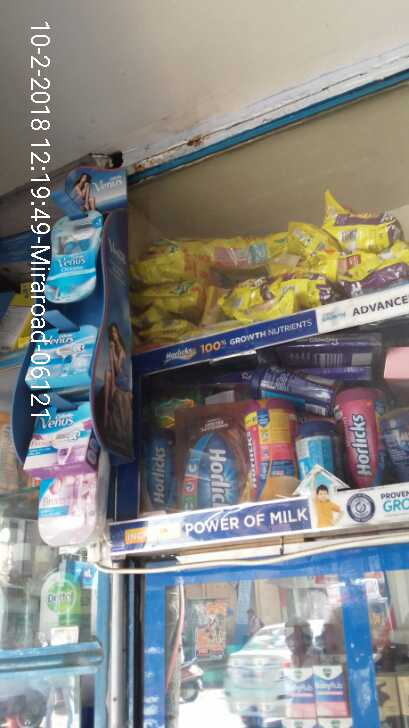beauty: (22, 409, 102, 474), (40, 211, 100, 296), (24, 327, 93, 396)
